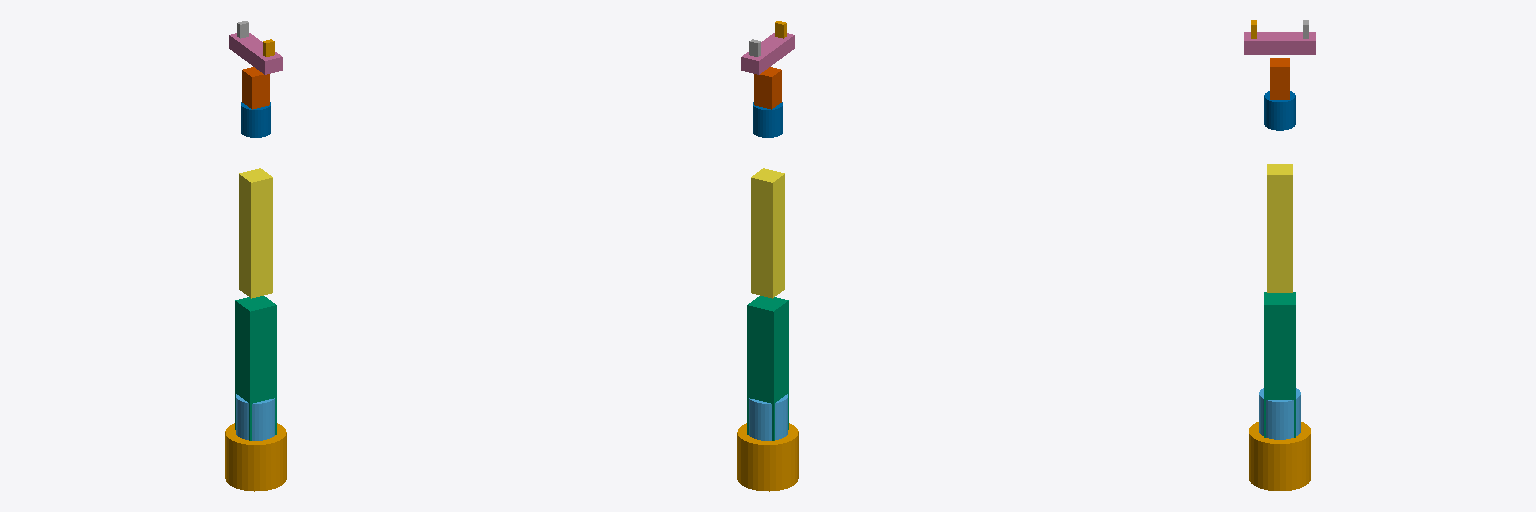
robot.urdf — tiny_arm:
<robot name="tiny_arm">
<link name="base"><visual><origin xyz="0 0 0.05"/><geometry><cylinder radius="0.06" length="0.1"/></geometry></visual><collision><origin xyz="0 0 0.05"/><geometry><cylinder radius="0.06" length="0.1"/></geometry></collision><inertial><origin xyz="0 0 0.05"/><mass value="2.0"/><inertia ixx="0.001" iyy="0.001" izz="0.001" ixy="0" ixz="0" iyz="0"/></inertial></link>
<link name="l1"><visual><origin xyz="0 0 0.03"/><geometry><cylinder radius="0.04" length="0.1"/></geometry></visual><collision><origin xyz="0 0 0.03"/><geometry><cylinder radius="0.04" length="0.1"/></geometry></collision><inertial><origin xyz="0 0 0.03"/><mass value="0.6"/><inertia ixx="0.001" iyy="0.001" izz="0.001" ixy="0" ixz="0" iyz="0"/></inertial></link>
<joint name="j1" type="revolute"><parent link="base"/><child link="l1"/><origin xyz="0 0 0.1"/><axis xyz="0 0 1"/><limit lower="-3.1" upper="3.1" effort="40" velocity="3"/></joint>
<link name="l2"><visual><origin xyz="0 0 0.03"/><geometry><box size="0.06 0.06 0.3"/></geometry></visual><collision><origin xyz="0 0 0.03"/><geometry><box size="0.06 0.06 0.3"/></geometry></collision><inertial><origin xyz="0 0 0.03"/><mass value="0.6"/><inertia ixx="0.001" iyy="0.001" izz="0.001" ixy="0" ixz="0" iyz="0"/></inertial></link>
<joint name="j2" type="revolute"><parent link="l1"/><child link="l2"/><origin xyz="0 0 0.1"/><axis xyz="0 1 0"/><limit lower="-3.1" upper="3.1" effort="40" velocity="3"/></joint>
<link name="l3"><visual><origin xyz="0 0 0.03"/><geometry><box size="0.05 0.05 0.25"/></geometry></visual><collision><origin xyz="0 0 0.03"/><geometry><box size="0.05 0.05 0.25"/></geometry></collision><inertial><origin xyz="0 0 0.03"/><mass value="0.6"/><inertia ixx="0.001" iyy="0.001" izz="0.001" ixy="0" ixz="0" iyz="0"/></inertial></link>
<joint name="j3" type="revolute"><parent link="l2"/><child link="l3"/><origin xyz="0 0 0.3"/><axis xyz="0 1 0"/><limit lower="-3.1" upper="3.1" effort="40" velocity="3"/></joint>
<link name="l4"><visual><origin xyz="0 0 0.03"/><geometry><cylinder radius="0.03" length="0.06"/></geometry></visual><collision><origin xyz="0 0 0.03"/><geometry><cylinder radius="0.03" length="0.06"/></geometry></collision><inertial><origin xyz="0 0 0.03"/><mass value="0.6"/><inertia ixx="0.001" iyy="0.001" izz="0.001" ixy="0" ixz="0" iyz="0"/></inertial></link>
<joint name="j4" type="revolute"><parent link="l3"/><child link="l4"/><origin xyz="0 0 0.25"/><axis xyz="0 0 1"/><limit lower="-3.1" upper="3.1" effort="40" velocity="3"/></joint>
<link name="l5"><visual><origin xyz="0 0 0.03"/><geometry><box size="0.04 0.04 0.08"/></geometry></visual><collision><origin xyz="0 0 0.03"/><geometry><box size="0.04 0.04 0.08"/></geometry></collision><inertial><origin xyz="0 0 0.03"/><mass value="0.6"/><inertia ixx="0.001" iyy="0.001" izz="0.001" ixy="0" ixz="0" iyz="0"/></inertial></link>
<joint name="j5" type="revolute"><parent link="l4"/><child link="l5"/><origin xyz="0 0 0.06"/><axis xyz="0 1 0"/><limit lower="-3.1" upper="3.1" effort="40" velocity="3"/></joint>
<link name="hand"><visual><origin xyz="0 0 0.03"/><geometry><box size="0.04 0.14 0.03"/></geometry></visual><collision><origin xyz="0 0 0.03"/><geometry><box size="0.04 0.14 0.03"/></geometry></collision><inertial><origin xyz="0 0 0.03"/><mass value="0.6"/><inertia ixx="0.001" iyy="0.001" izz="0.001" ixy="0" ixz="0" iyz="0"/></inertial></link>
<joint name="j6" type="revolute"><parent link="l5"/><child link="hand"/><origin xyz="0 0 0.08"/><axis xyz="0 0 1"/><limit lower="-3.1" upper="3.1" effort="40" velocity="3"/></joint>
<link name="left_finger"><visual><origin xyz="0 0 0.03"/><geometry><box size="0.02 0.012 0.06"/></geometry></visual><collision><origin xyz="0 0 0.03"/><geometry><box size="0.02 0.012 0.06"/></geometry></collision><inertial><origin xyz="0 0 0.03"/><mass value="0.05"/><inertia ixx="0.001" iyy="0.001" izz="0.001" ixy="0" ixz="0" iyz="0"/></inertial></link>
<joint name="left_finger_joint" type="prismatic"><parent link="hand"/><child link="left_finger"/><origin xyz="0 0.05 0.015"/><axis xyz="0 -1 0"/><limit lower="0" upper="0.04" effort="20" velocity="3"/></joint>
<link name="right_finger"><visual><origin xyz="0 0 0.03"/><geometry><box size="0.02 0.012 0.06"/></geometry></visual><collision><origin xyz="0 0 0.03"/><geometry><box size="0.02 0.012 0.06"/></geometry></collision><inertial><origin xyz="0 0 0.03"/><mass value="0.05"/><inertia ixx="0.001" iyy="0.001" izz="0.001" ixy="0" ixz="0" iyz="0"/></inertial></link>
<joint name="right_finger_joint" type="prismatic"><parent link="hand"/><child link="right_finger"/><origin xyz="0 -0.05 0.015"/><axis xyz="0 1 0"/><limit lower="0" upper="0.04" effort="20" velocity="3"/></joint>
</robot>

--- What the picture shows (computed from the rendered views, not written in the file) ---
3 views of the same robot in one strip: view 1: azimuth 30°, elevation 25°; view 2: azimuth 150°, elevation 25°; view 3: azimuth 270°, elevation 25° (orthographic).
Robot: tiny_arm — 9 links, 8 joints (6 revolute, 2 prismatic); root link base; default pose: every joint at zero.
Visible links, largest first — view 1: l2, l3, base, l1, hand, l5, l4; view 2: l2, l3, base, l1, hand, l5, l4; view 3: l2, base, l3, hand, l1, l4, l5.
Boxes of the visible links, box(x1,y1,x2,y2) form: l2: box(235, 296, 276, 440); l3: box(239, 168, 272, 298); base: box(225, 423, 286, 491); l1: box(236, 394, 274, 440); hand: box(229, 33, 282, 74); l5: box(242, 67, 269, 109); l4: box(241, 102, 270, 137); l2: box(747, 296, 788, 440); l3: box(751, 168, 784, 298); base: box(737, 423, 798, 491); l1: box(749, 394, 787, 440); hand: box(741, 33, 794, 74); l5: box(754, 67, 781, 109); l4: box(753, 102, 782, 137); l2: box(1264, 292, 1295, 437); base: box(1249, 422, 1310, 490); l3: box(1267, 164, 1292, 292); hand: box(1244, 32, 1315, 54); l1: box(1259, 388, 1300, 439); l4: box(1264, 91, 1295, 130); l5: box(1270, 58, 1289, 99).
Size in the robot's own frame: 0.12 by 0.14 by 0.965 metres.
Geometry: primitives only (box / cylinder / sphere), no mesh files.
